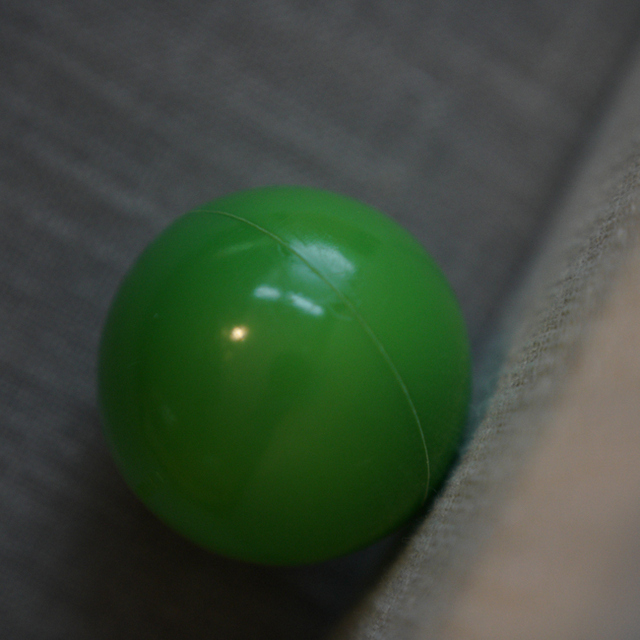Ball: (94, 192, 473, 563)
